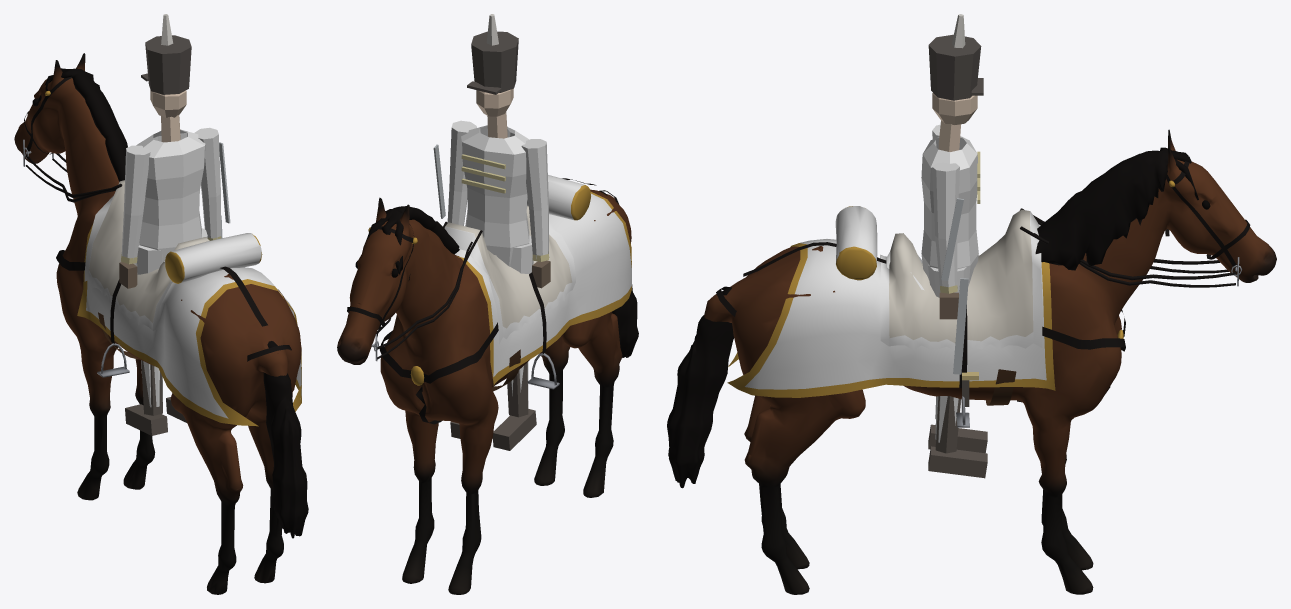
Rendered from cavalry_hx_c19_hussar_lod0.glb.
3 views of the same model, side by side, from view 1: azimuth 30°, elevation 25°; view 2: azimuth 150°, elevation 25°; view 3: azimuth 270°, elevation 25° (orthographic). The views are drawn at different scales.
Parts seen in each view (by area): view 1: hx_c19_hussar_lod0; view 2: hx_c19_hussar_lod0; view 3: hx_c19_hussar_lod0.
Part boxes in pixels (x1=…): hx_c19_hussar_lod0: x1=14, y1=14, x2=308, y2=594; hx_c19_hussar_lod0: x1=337, y1=14, x2=638, y2=594; hx_c19_hussar_lod0: x1=667, y1=14, x2=1276, y2=594.
Bounding box in the file's own units: 0.676 × 2.6 × 2.55.
